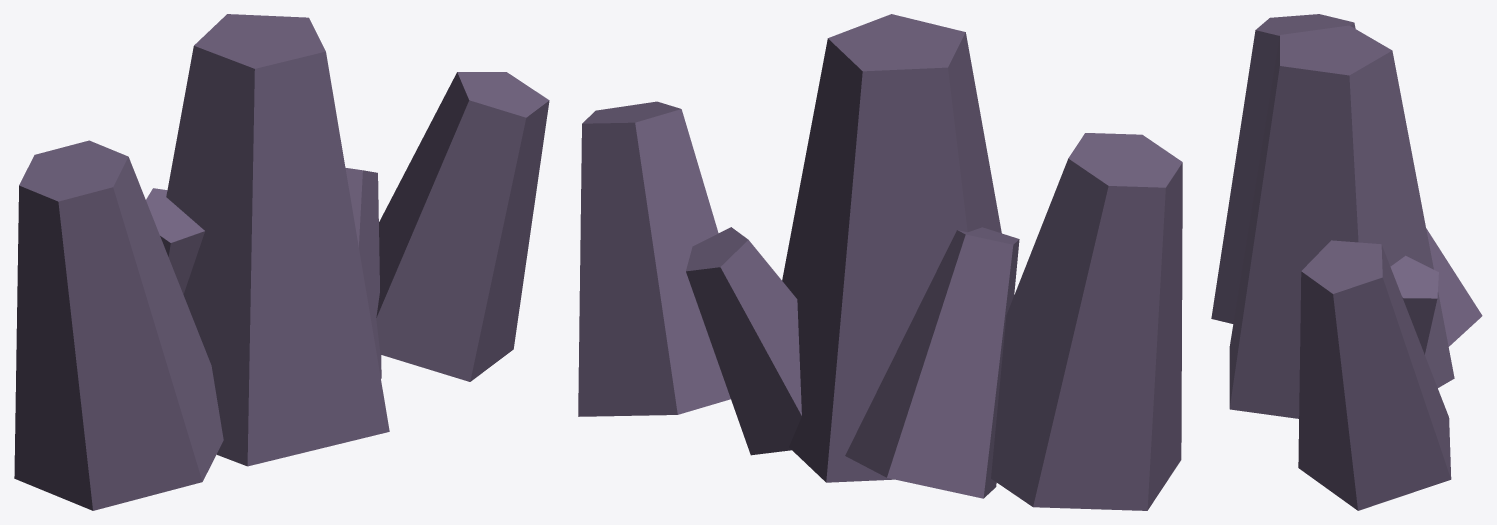
File: TC_ENV_DistantSilhouette_BasaltRidge_V1.glb
The picture shows the model from 3 angles, left to right: view 1: azimuth 30°, elevation 25°; view 2: azimuth 150°, elevation 25°; view 3: azimuth 270°, elevation 25°; orthographic projection. The views are drawn at different scales.
Visible parts, largest first — view 1: TC_DistantSilhouette_BasaltRidge_Spire_0, TC_DistantSilhouette_BasaltRidge_Spire_2, TC_DistantSilhouette_BasaltRidge_Spire_1, TC_DistantSilhouette_BasaltRidge_Spire_3, TC_DistantSilhouette_BasaltRidge_Spire_4; view 2: TC_DistantSilhouette_BasaltRidge_Spire_0, TC_DistantSilhouette_BasaltRidge_Spire_2, TC_DistantSilhouette_BasaltRidge_Spire_1, TC_DistantSilhouette_BasaltRidge_Spire_4, TC_DistantSilhouette_BasaltRidge_Spire_3; view 3: TC_DistantSilhouette_BasaltRidge_Spire_0, TC_DistantSilhouette_BasaltRidge_Spire_1, TC_DistantSilhouette_BasaltRidge_Spire_2, TC_DistantSilhouette_BasaltRidge_Spire_3, TC_DistantSilhouette_BasaltRidge_Spire_4.
Part boxes in pixels (left/top/right/bottom): TC_DistantSilhouette_BasaltRidge_Spire_0: left=166, top=14, right=389, bottom=466; TC_DistantSilhouette_BasaltRidge_Spire_2: left=14, top=140, right=223, bottom=510; TC_DistantSilhouette_BasaltRidge_Spire_1: left=376, top=72, right=549, bottom=381; TC_DistantSilhouette_BasaltRidge_Spire_3: left=345, top=167, right=381, bottom=378; TC_DistantSilhouette_BasaltRidge_Spire_4: left=146, top=188, right=204, bottom=294; TC_DistantSilhouette_BasaltRidge_Spire_0: left=782, top=14, right=1001, bottom=482; TC_DistantSilhouette_BasaltRidge_Spire_2: left=991, top=133, right=1182, bottom=510; TC_DistantSilhouette_BasaltRidge_Spire_1: left=578, top=101, right=730, bottom=416; TC_DistantSilhouette_BasaltRidge_Spire_4: left=845, top=227, right=1019, bottom=498; TC_DistantSilhouette_BasaltRidge_Spire_3: left=686, top=227, right=801, bottom=455; TC_DistantSilhouette_BasaltRidge_Spire_0: left=1229, top=25, right=1454, bottom=418; TC_DistantSilhouette_BasaltRidge_Spire_1: left=1298, top=240, right=1451, bottom=510; TC_DistantSilhouette_BasaltRidge_Spire_2: left=1211, top=14, right=1355, bottom=323; TC_DistantSilhouette_BasaltRidge_Spire_3: left=1390, top=255, right=1438, bottom=354; TC_DistantSilhouette_BasaltRidge_Spire_4: left=1426, top=228, right=1482, bottom=346.
Bounding box in the file's own units: 4.89 × 3.36 × 2.4.
